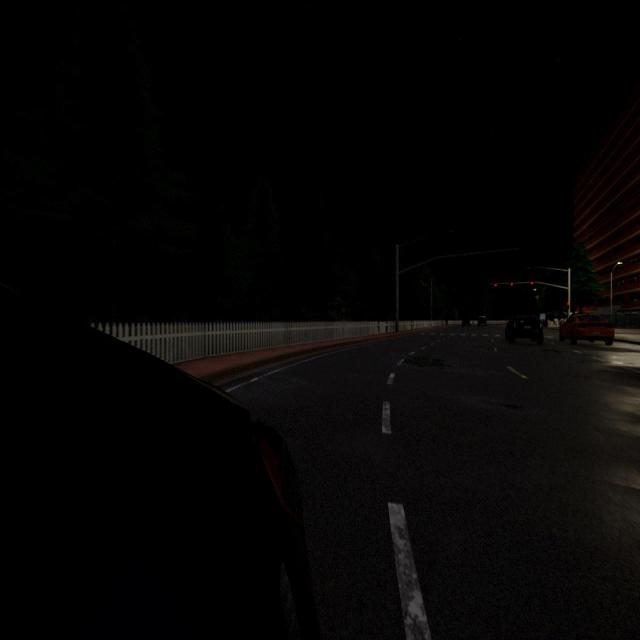Pedestrian: (444, 309, 449, 326)
Vehicle: (0, 312, 339, 639), (559, 311, 616, 345), (504, 314, 545, 344), (478, 316, 487, 326)
traffic_light: (567, 302, 570, 310), (530, 282, 534, 287), (494, 283, 497, 289), (511, 282, 513, 288)
